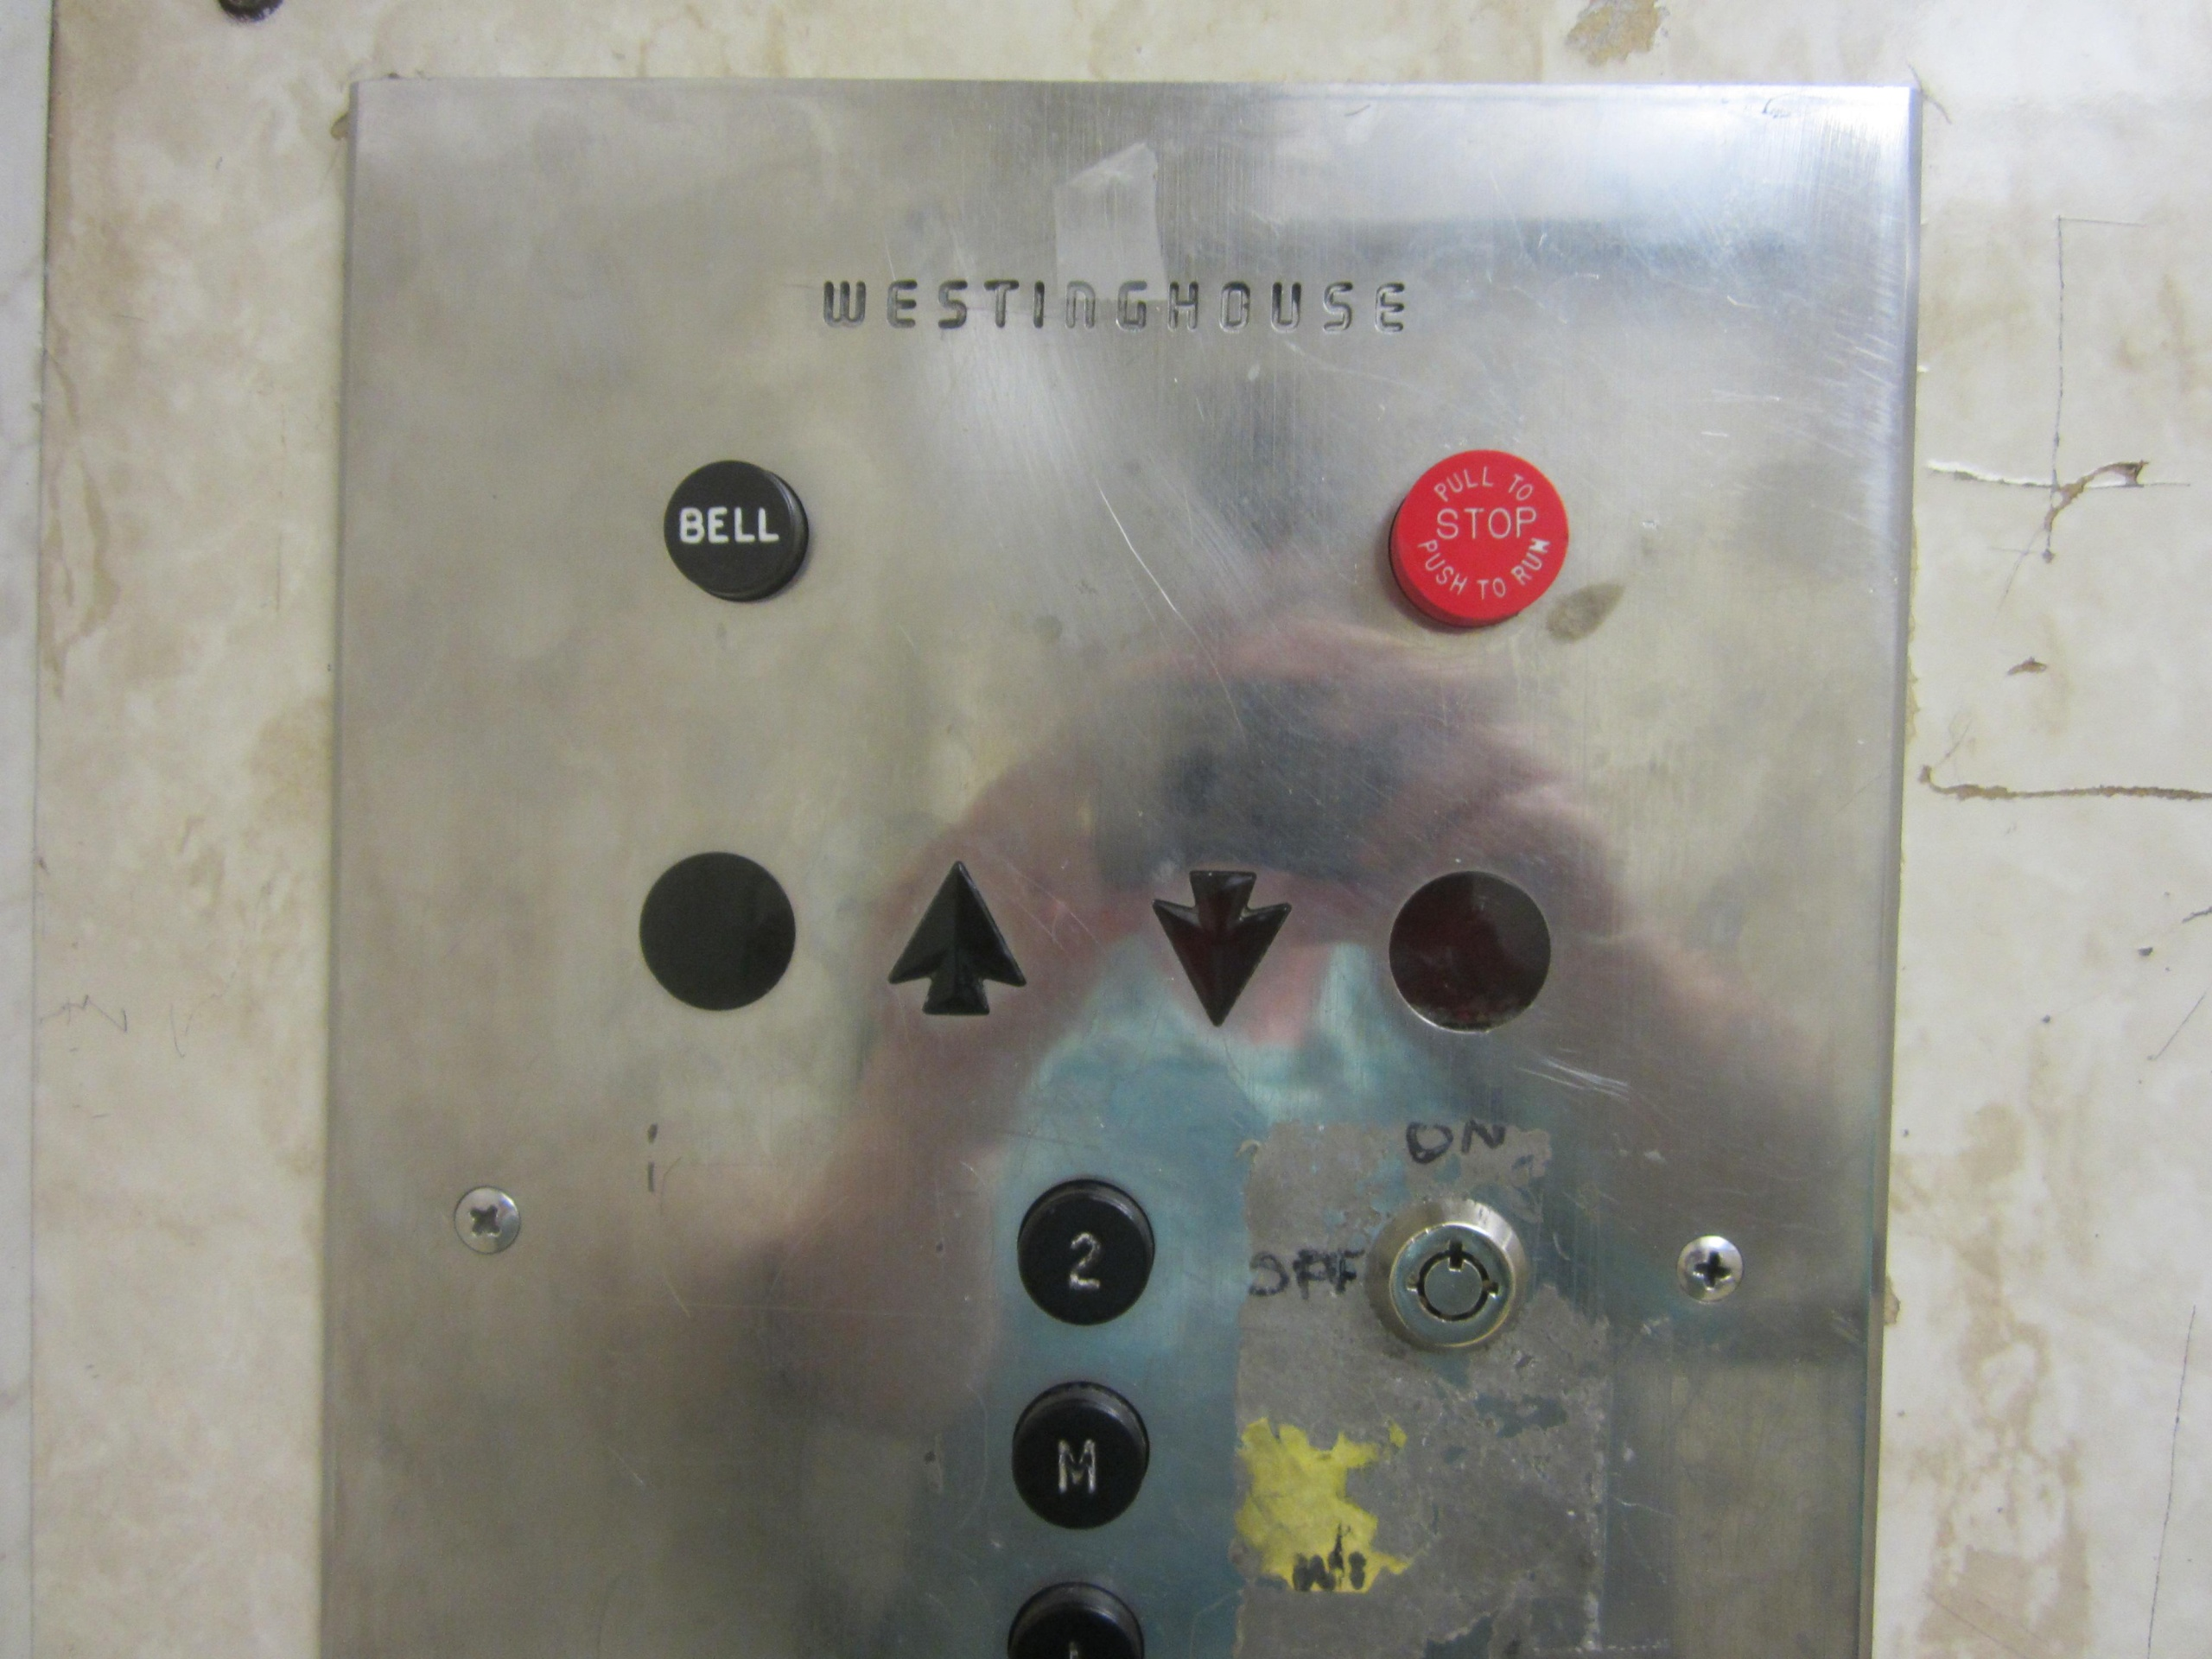2: (1010, 1173, 1158, 1328)
M: (1010, 1382, 1150, 1528)
empty: (1390, 870, 1552, 1033), (639, 850, 796, 1011)
keyhole: (1364, 1197, 1531, 1352)
text_bell: (664, 460, 810, 603)
text_stop: (1385, 444, 1569, 627)
